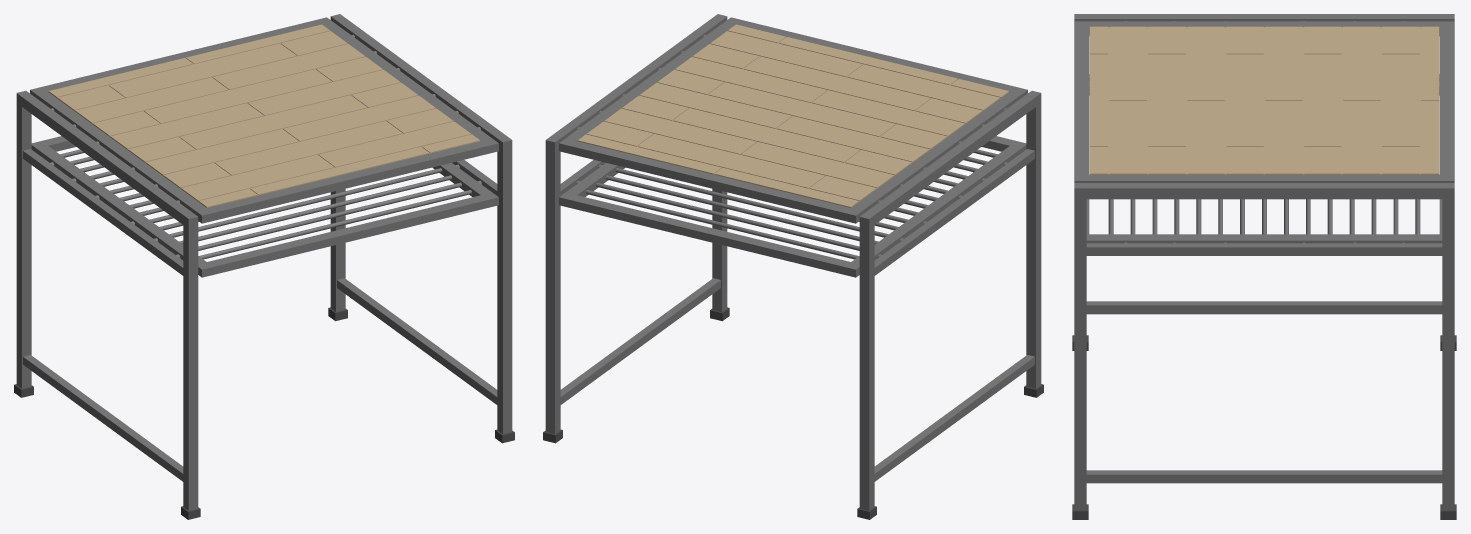
Rendered from 595_ダイニングテーブル2人掛け.glb.
3 views of the same model, side by side, from view 1: azimuth 30°, elevation 25°; view 2: azimuth 150°, elevation 25°; view 3: azimuth 270°, elevation 25° (orthographic). The views are drawn at different scales.
Parts seen in each view (by area): view 1: Body; view 2: Body; view 3: Body.
Part boxes in pixels (left/top/right/bottom): Body: left=14, top=14, right=514, bottom=519; Body: left=543, top=14, right=1043, bottom=519; Body: left=1072, top=14, right=1456, bottom=519.
Bounding box in the file's own units: 0.855 × 0.752 × 0.789.
